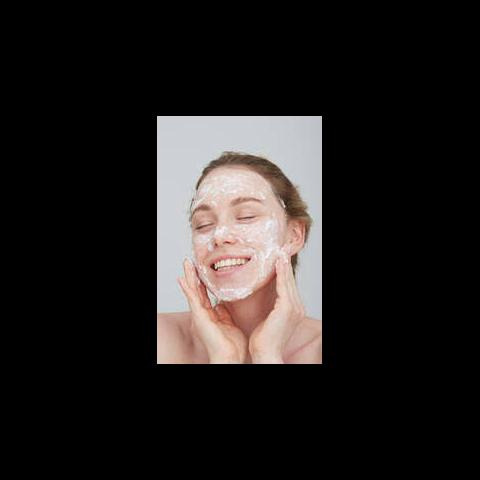closed: (188, 199, 270, 234)
